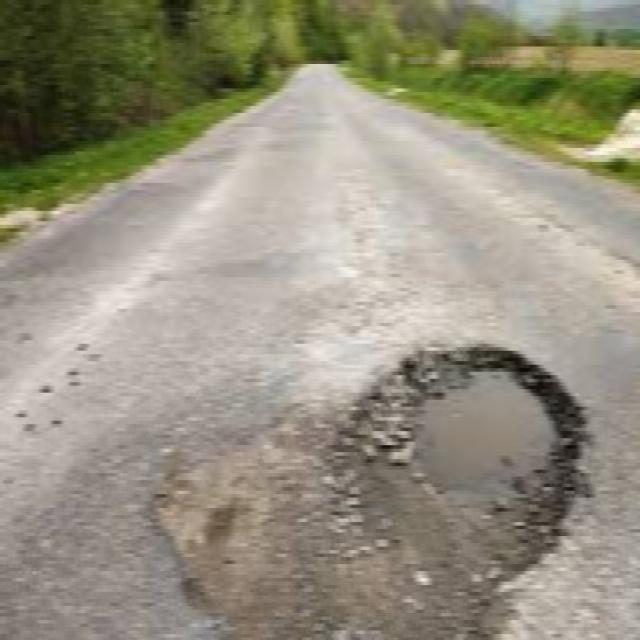Pothole: (348, 324, 557, 640), (143, 397, 366, 640)
